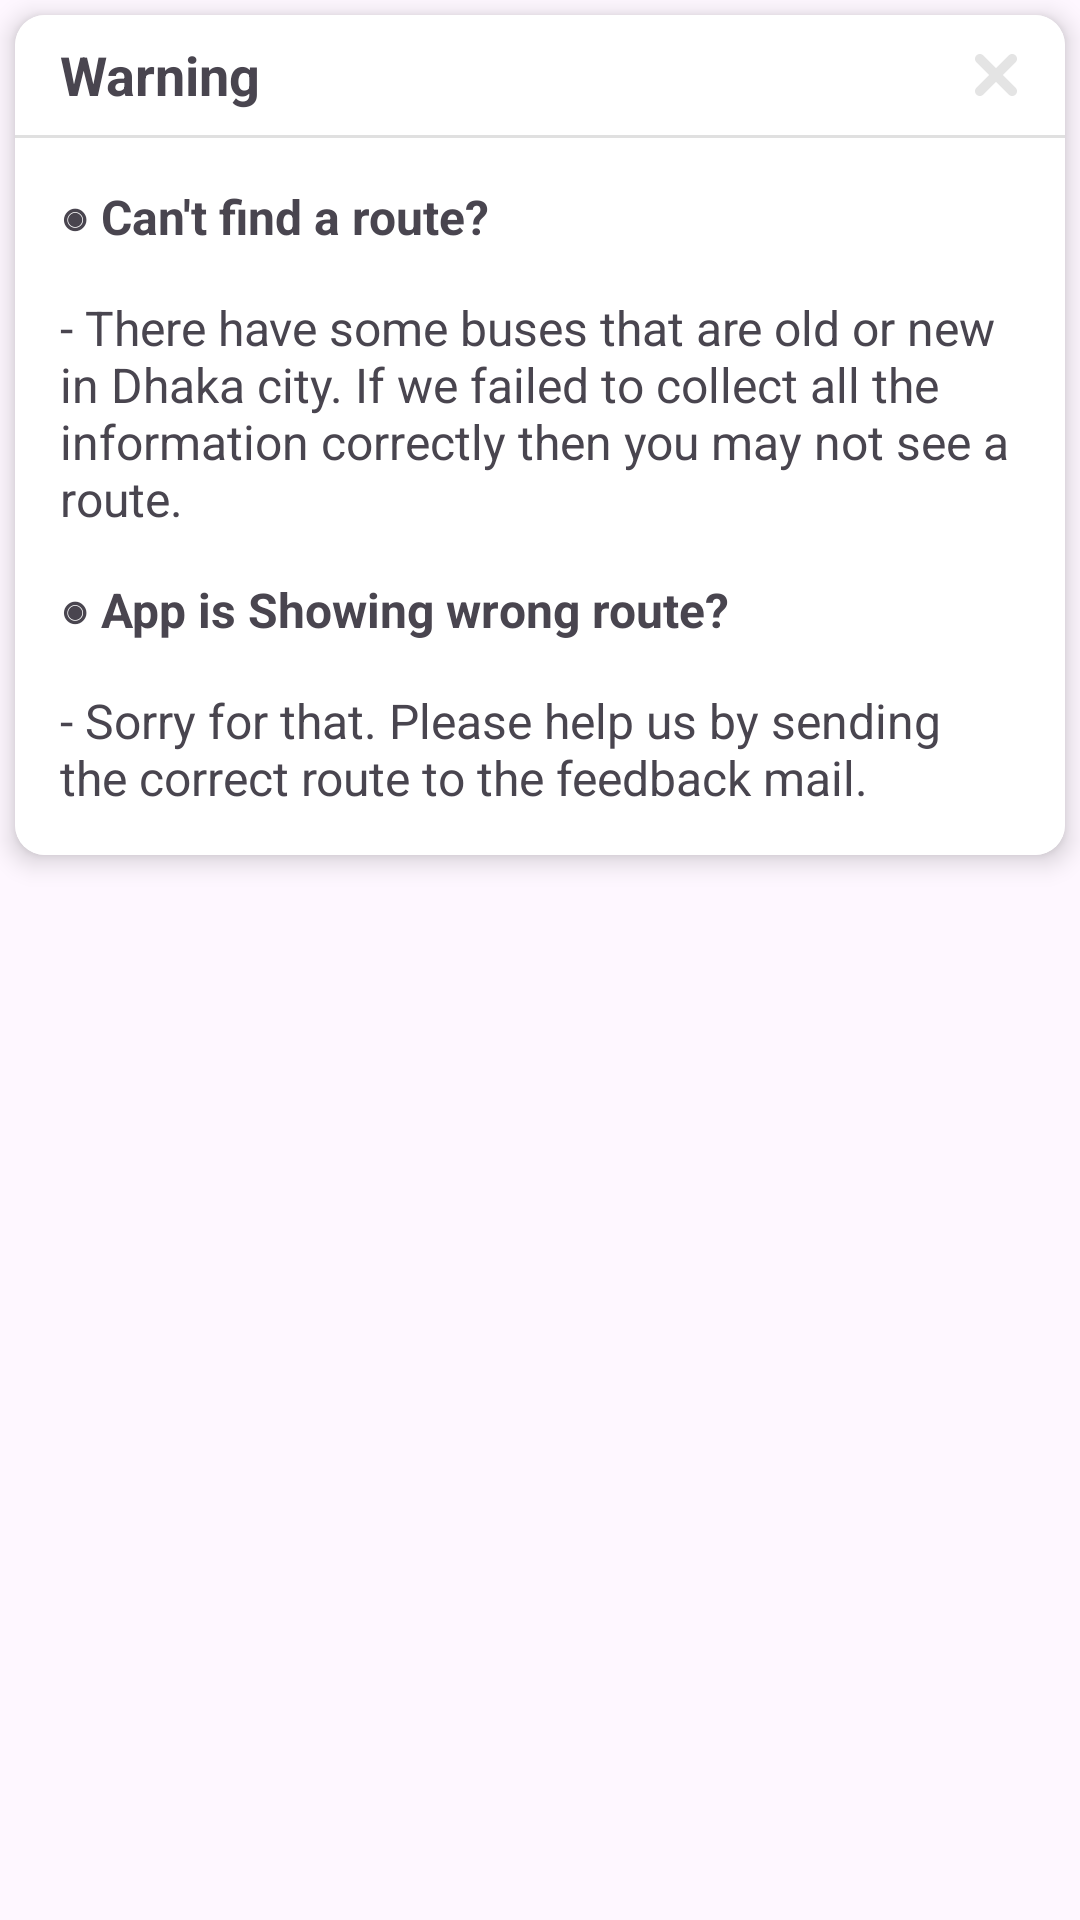

Locate icon controls on the screen. Image size 1080w x 1920h, boxes as (x1, y1, x2, y2).
cross: (975, 54, 1017, 96)
